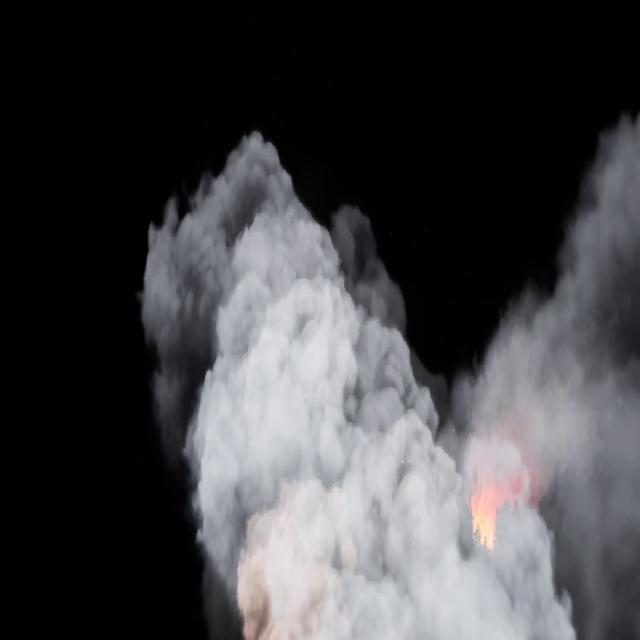fire: (468, 457, 536, 538)
smoke: (137, 104, 640, 639)
